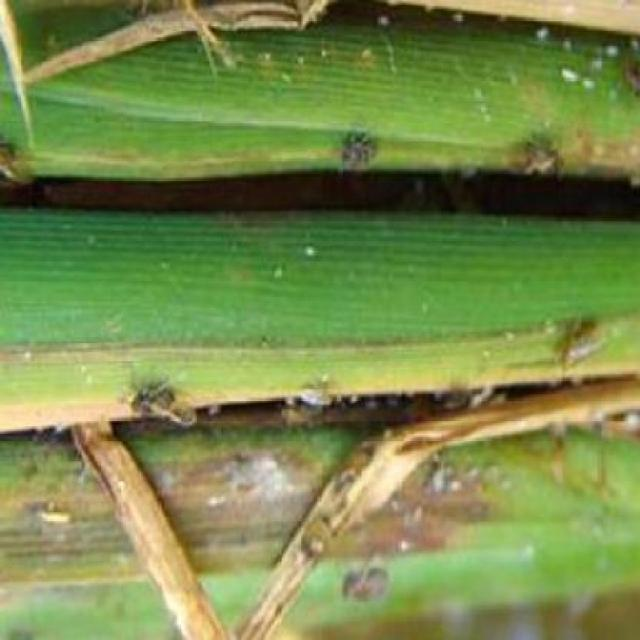brown-planthopper: (132, 383, 197, 426), (562, 315, 609, 368), (344, 564, 388, 604), (340, 132, 382, 170), (523, 143, 562, 171), (297, 390, 334, 412)
